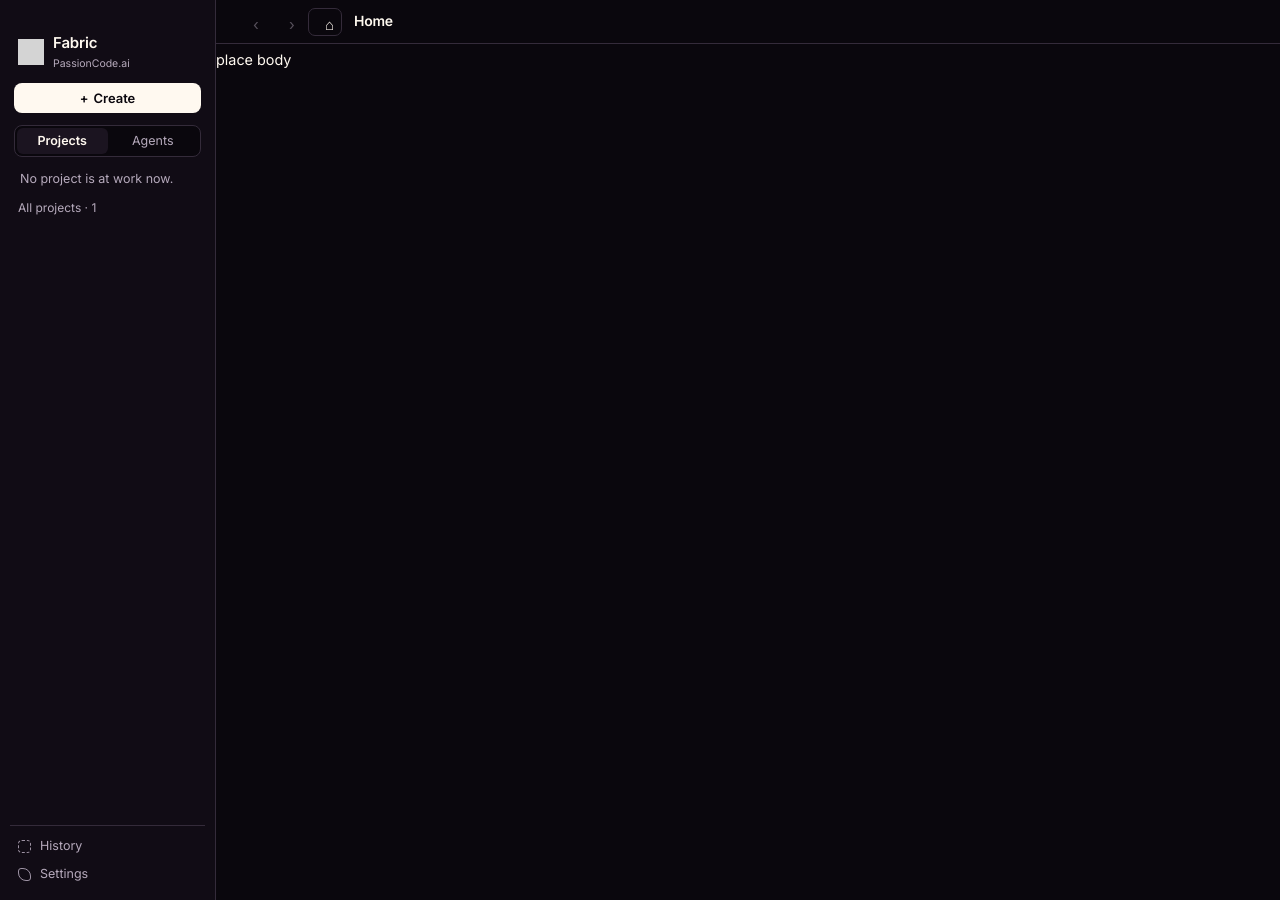
Test: the left column › has no «Все проекты» row when every project is at work, and says so when none is
Expected: the text "No project is at work now." is shown, [20,171,173,186]
Click the button "All projects · 1": (108, 207) [10,193,205,221]
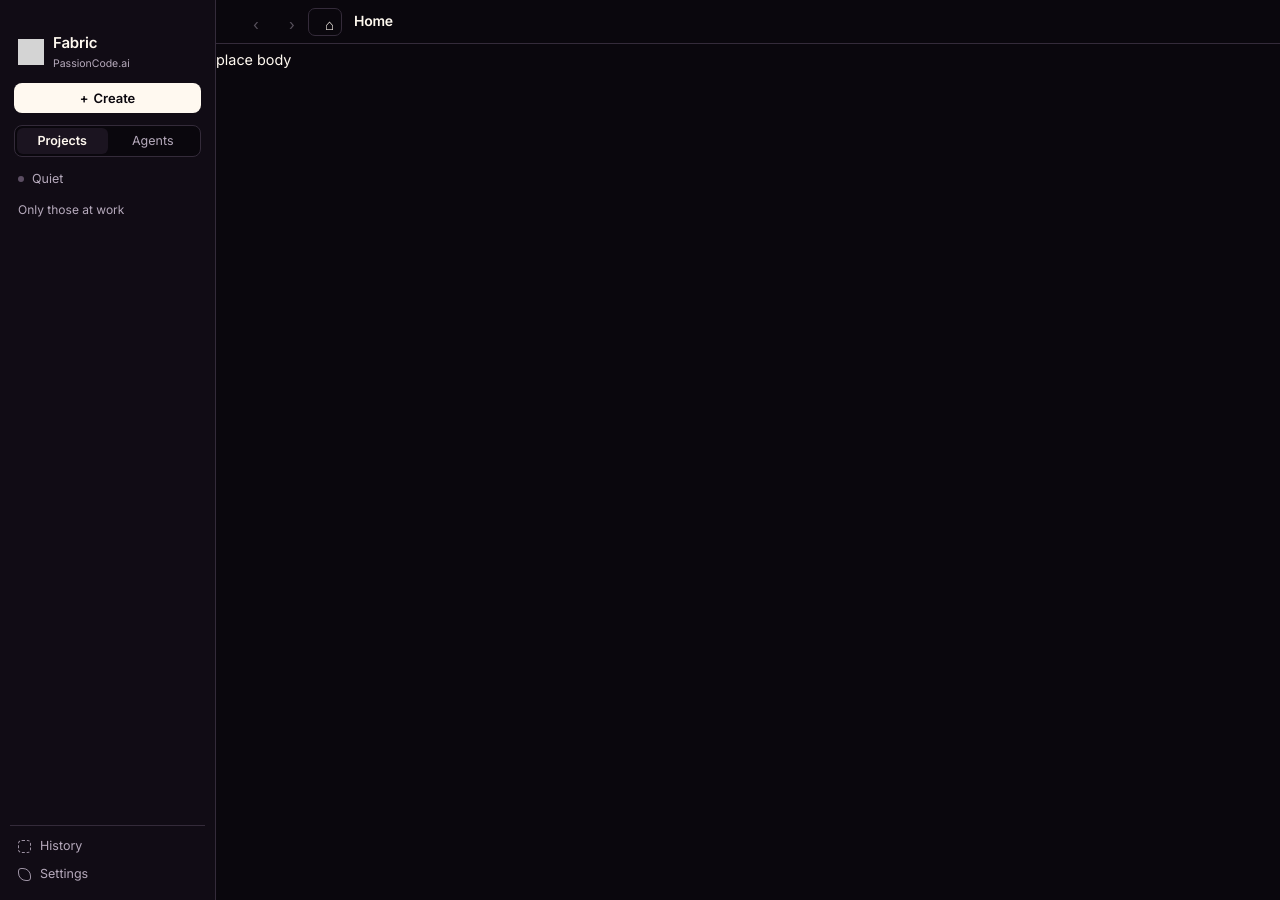
Expected: the link "Quiet" is shown, [18,171,63,186]
